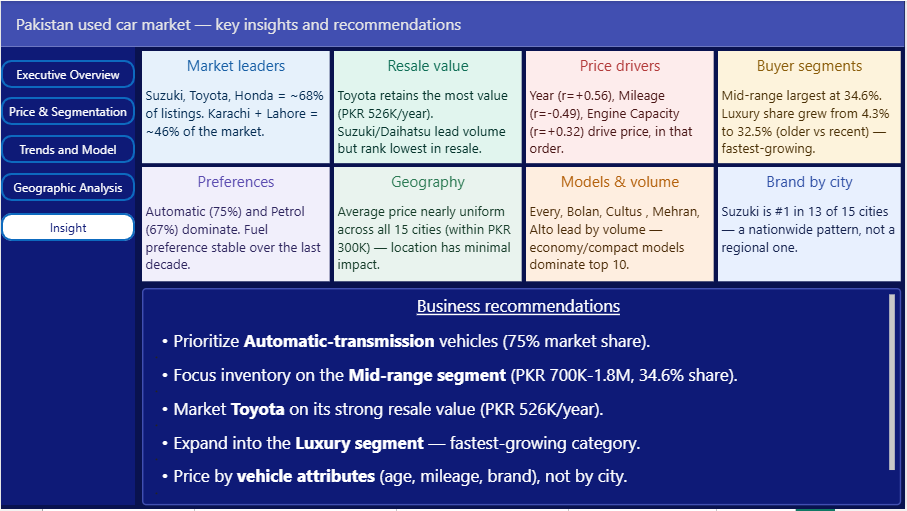

What the dashboard file says about the page in this screenshot:
{"tool":"powerbi","page":{"name":"Insight","canvas":[1280,720],"ordinal":4},"visuals":[{"type":"shape","box":[0,0,1280.2,64.8],"z":0,"group":"g2"},{"type":"shape","box":[0,59.5,189.9,654.8],"z":0,"group":"g1"},{"type":"textbox","box":[199.8,70.9,266.5,158.7],"z":1000},{"type":"actionButton","box":[0,83.6,189.9,39.7],"z":1000,"group":"g1"},{"type":"textbox","box":[472,70.9,266.5,158.7],"z":2000},{"type":"actionButton","box":[0,135.4,189.9,39.7],"z":2000,"group":"g1"},{"type":"actionButton","box":[0,189.9,189.9,39.7],"z":3000,"group":"g1"},{"type":"textbox","box":[199.8,406.8,1075.7,307.6],"z":3000},{"type":"textbox","box":[744.1,70.9,266.5,158.7],"z":4000},{"type":"actionButton","box":[0,243.8,189.9,39.7],"z":4000,"group":"g1"},{"type":"textbox","box":[1016.2,70.9,259.4,158.7],"z":5000},{"type":"actionButton","box":[0,300.8,189.9,39.7],"z":5000,"group":"g1"},{"type":"textbox","box":[1016.2,235.3,259.4,161.6],"z":6000},{"type":"textbox","box":[744.1,235.3,266.5,161.6],"z":7000},{"type":"textbox","box":[472,235.3,266.5,161.6],"z":8000},{"type":"textbox","box":[199.8,235.3,266.5,161.6],"z":9000},{"type":"group","id":"g1","title":"Side bar","box":[0,59.5,189.9,654.8],"z":10000},{"type":"group","id":"g2","title":"top bar","box":[0,0,1279.8,65.2],"z":10500}]}

Visuals, with their boxes in screenshot pixels (x1, y1, x2, y2), scaled from the page's 1280x720 canvas onto the 907x511 screenshot:
shape: left=0, top=0, right=906, bottom=46
shape: left=0, top=42, right=135, bottom=507
textbox: left=142, top=50, right=330, bottom=163
actionButton: left=0, top=59, right=135, bottom=88
textbox: left=334, top=50, right=523, bottom=163
actionButton: left=0, top=96, right=135, bottom=124
actionButton: left=0, top=135, right=135, bottom=163
textbox: left=142, top=289, right=904, bottom=507
textbox: left=527, top=50, right=716, bottom=163
actionButton: left=0, top=173, right=135, bottom=201
textbox: left=720, top=50, right=904, bottom=163
actionButton: left=0, top=213, right=135, bottom=242
textbox: left=720, top=167, right=904, bottom=282
textbox: left=527, top=167, right=716, bottom=282
textbox: left=334, top=167, right=523, bottom=282
textbox: left=142, top=167, right=330, bottom=282
"Side bar" group: left=0, top=42, right=135, bottom=507
"top bar" group: left=0, top=0, right=906, bottom=46
